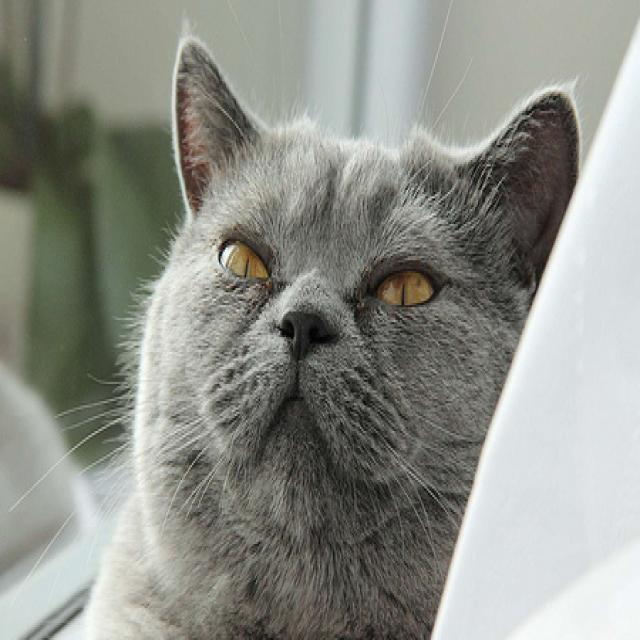British Shorthair: (72, 25, 583, 640)
